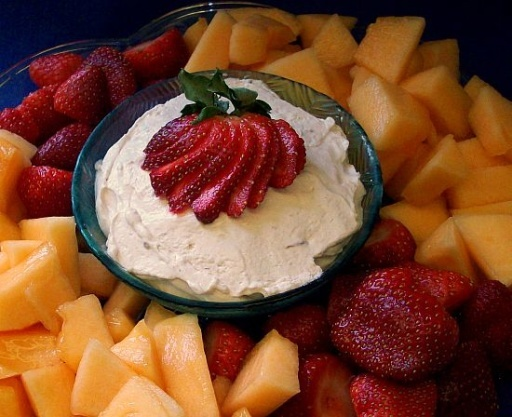background: (0, 5, 410, 271)
